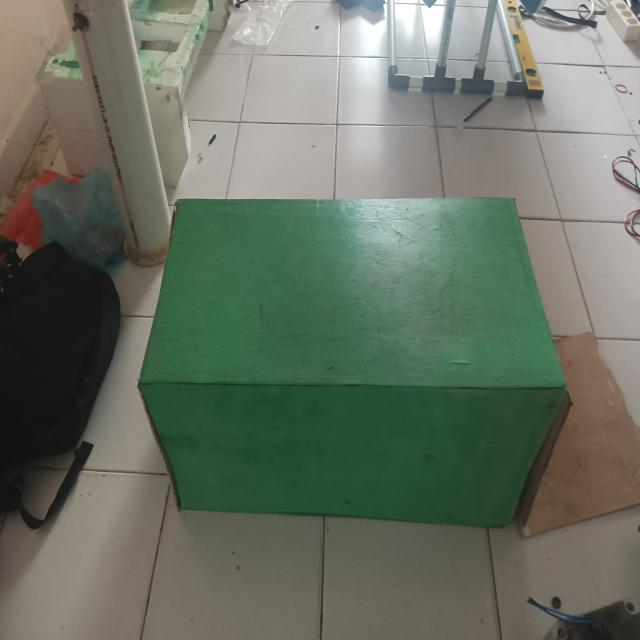green_box: (129, 196, 571, 532)
